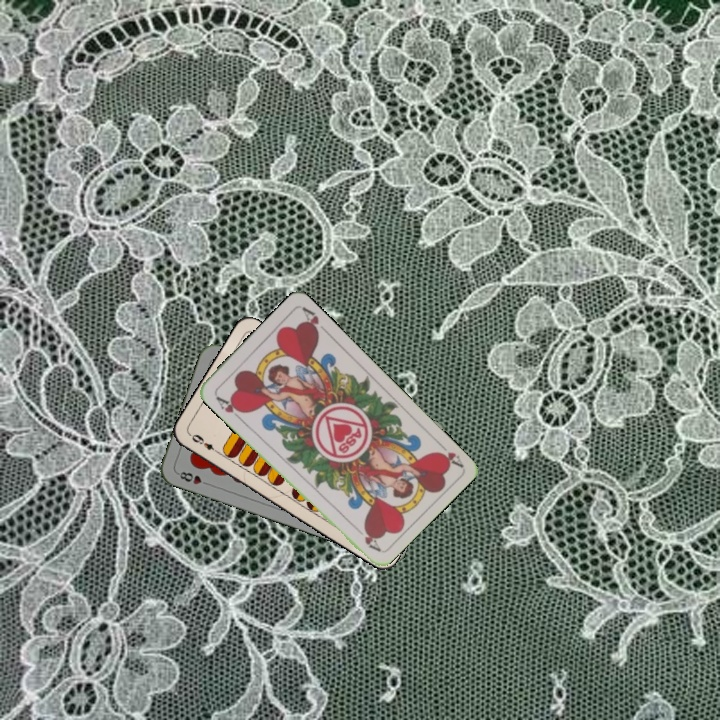E9: (186, 430, 222, 457)
H8: (173, 467, 213, 488)
HA: (211, 391, 248, 423), (432, 436, 465, 469)
